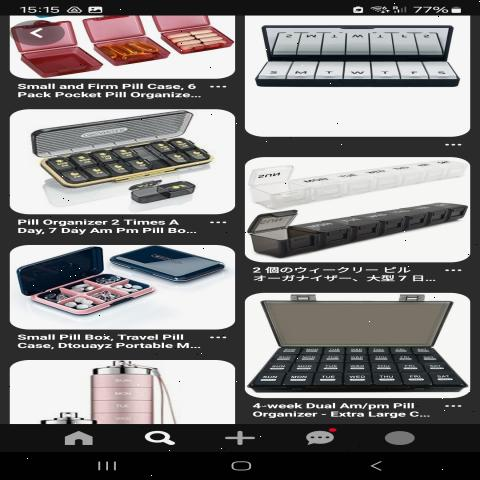PillBox: (255, 197, 478, 261), (251, 357, 468, 391)
